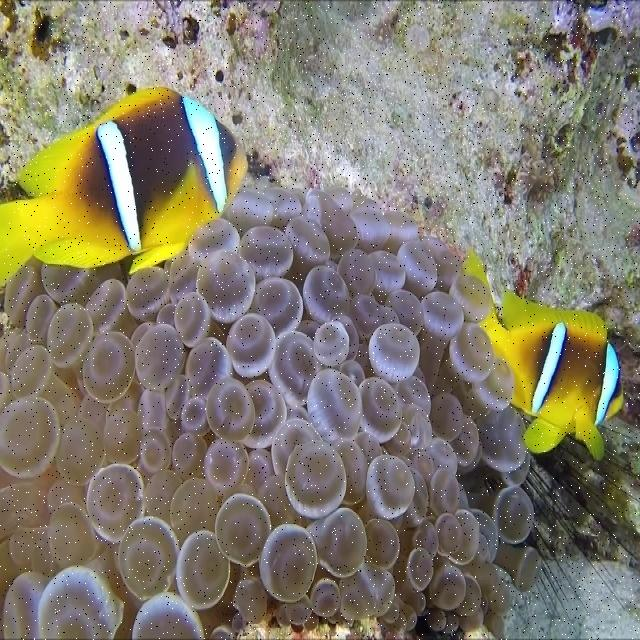fish: (0, 85, 251, 289), (462, 249, 625, 462)
reefs: (0, 185, 543, 639)
